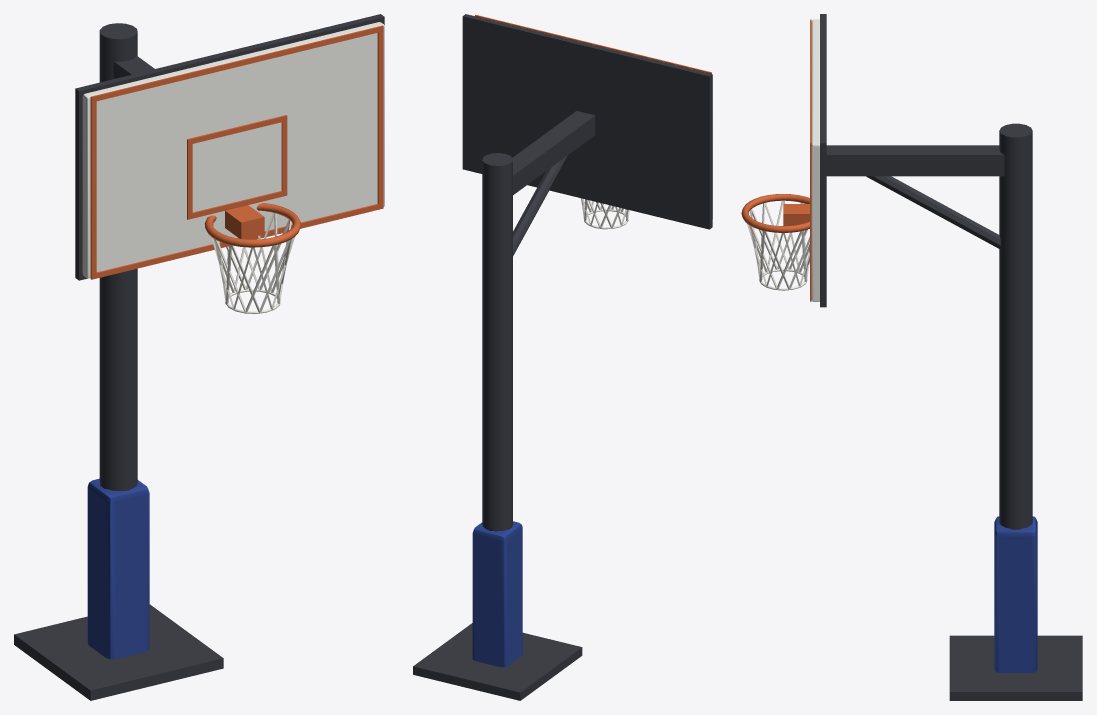
The model's file is hoop.glb.
The picture shows the model from 3 angles, left to right: view 1: azimuth 30°, elevation 25°; view 2: azimuth 150°, elevation 25°; view 3: azimuth 270°, elevation 25°; orthographic projection. The views are drawn at different scales.
Parts seen in each view (by area): view 1: part-board, part-metal, part-pad, part-paint, part-net, part-rim; view 2: part-metal, part-pad, part-net, part-paint; view 3: part-metal, part-pad, part-board, part-net, part-rim, part-paint.
Part boxes in pixels (left/top/right/bottom): part-board: left=82, top=22, right=384, bottom=278; part-metal: left=14, top=14, right=384, bottom=700; part-pad: left=87, top=478, right=149, bottom=659; part-paint: left=90, top=25, right=383, bottom=279; part-net: left=211, top=212, right=294, bottom=313; part-rim: left=205, top=203, right=300, bottom=247; part-metal: left=413, top=14, right=712, bottom=700; part-pad: left=472, top=521, right=522, bottom=667; part-net: left=580, top=198, right=629, bottom=229; part-paint: left=475, top=15, right=711, bottom=73; part-metal: left=820, top=14, right=1082, bottom=700; part-pad: left=994, top=516, right=1037, bottom=672; part-board: left=811, top=19, right=819, bottom=301; part-net: left=747, top=200, right=809, bottom=290; part-rim: left=741, top=194, right=809, bottom=232; part-paint: left=810, top=19, right=811, bottom=301.
Bounding box in the file's own units: 18.4 × 39.45 × 20.52.
